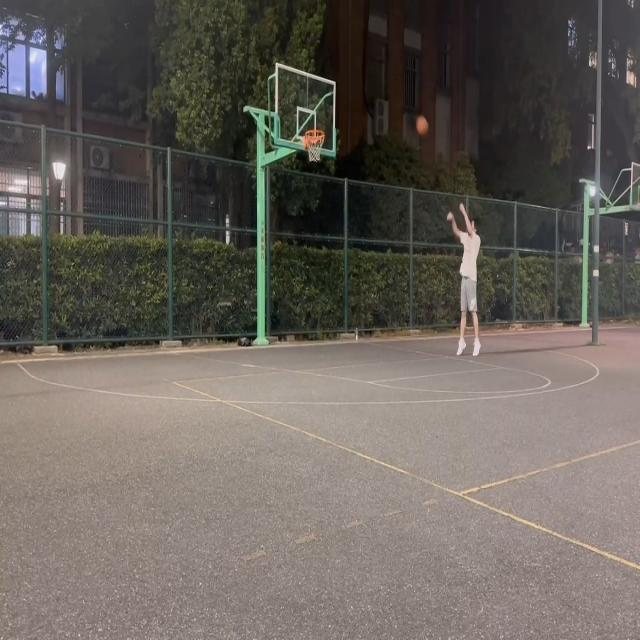basketball: (306, 130, 325, 162)
rim: (417, 116, 428, 135)
